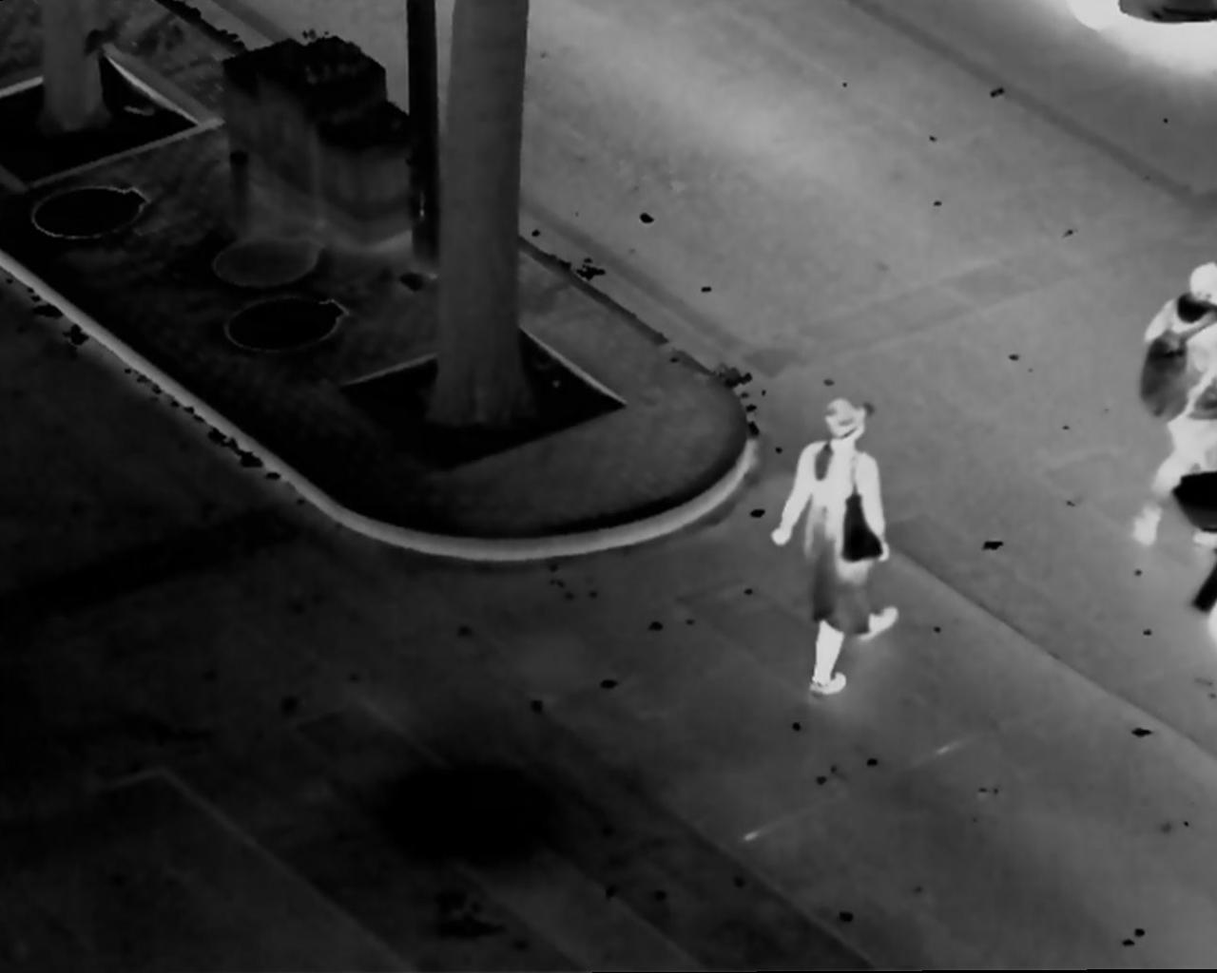person: (772, 399, 907, 704), (1137, 259, 1217, 547)
